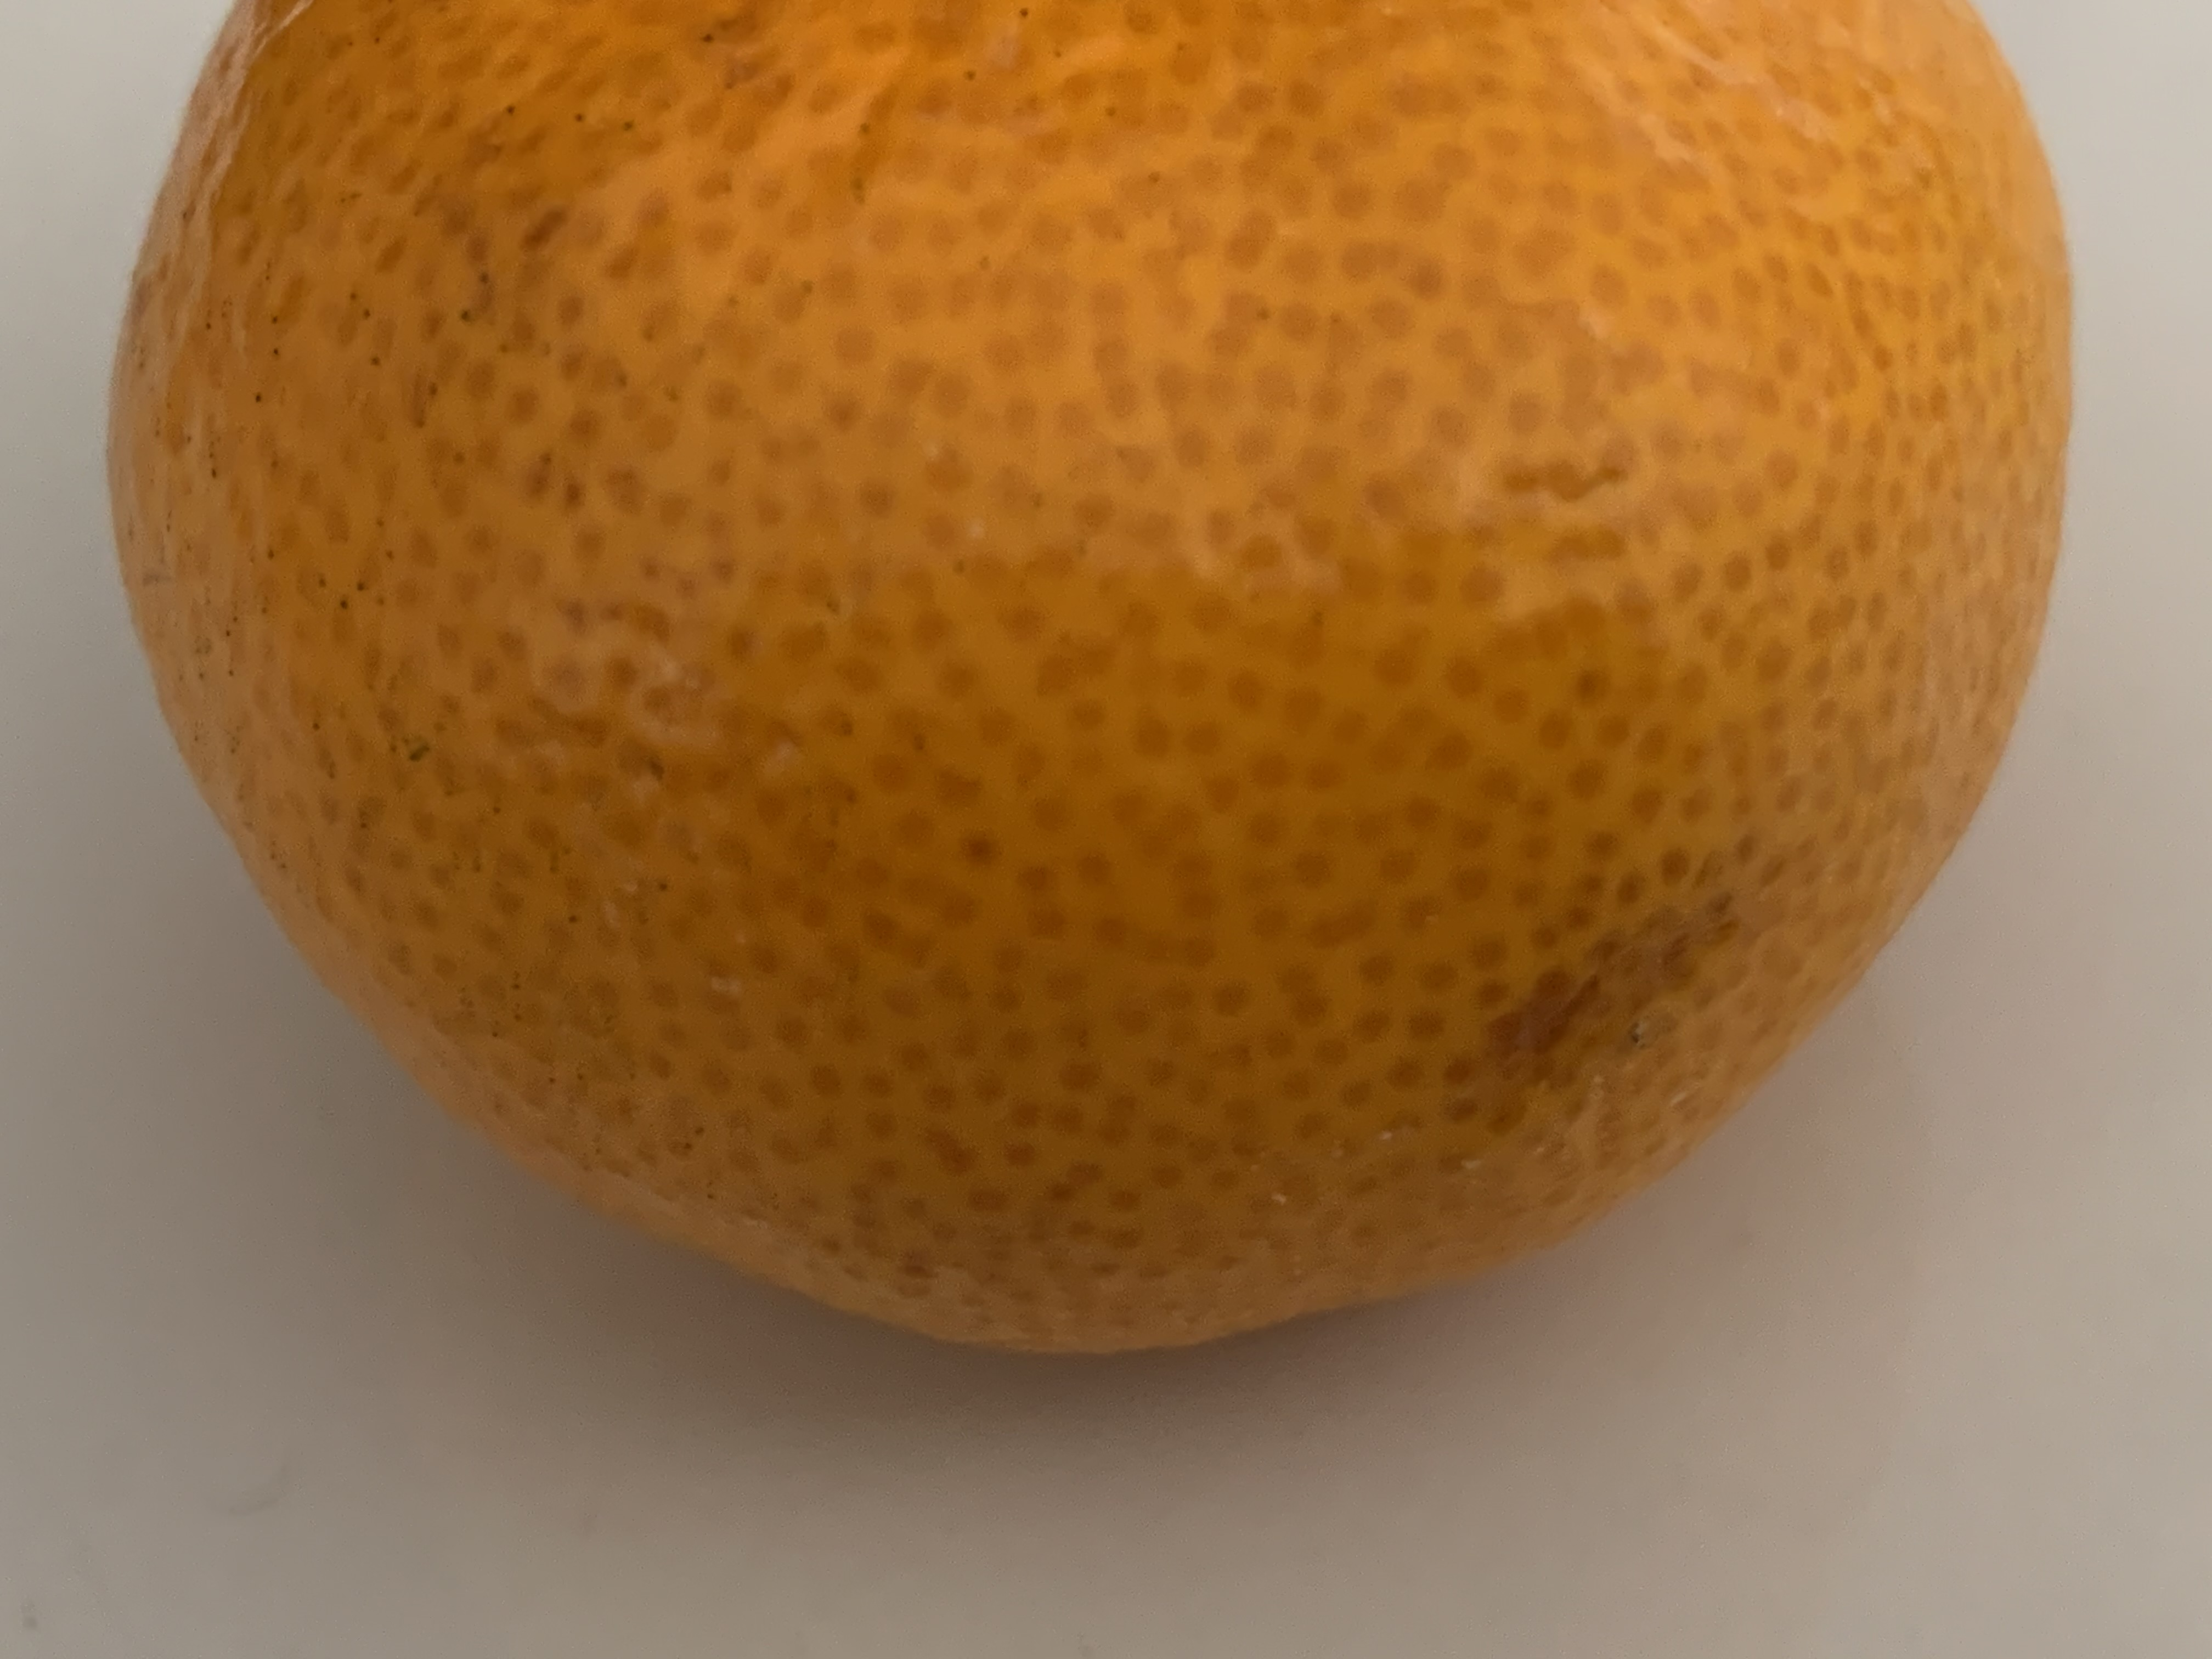orange: (134, 5, 2092, 1363)
